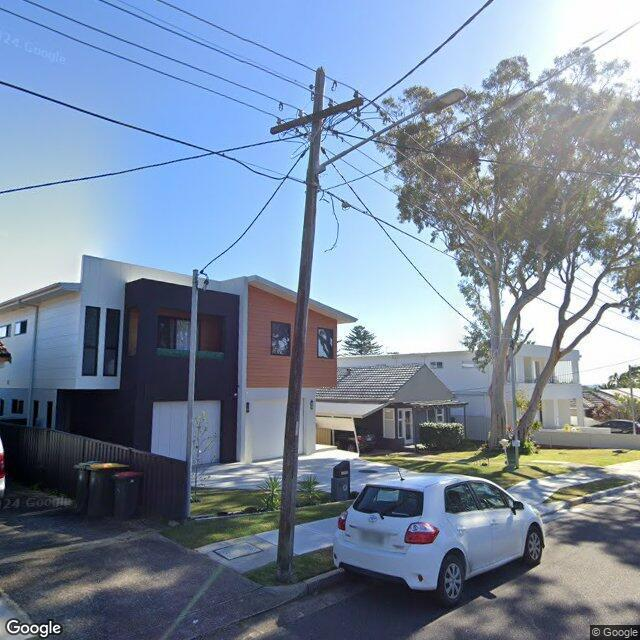crossarm: (271, 97, 365, 135)
steel-pole: (184, 269, 199, 517), (514, 336, 518, 468)
streetlight: (309, 88, 466, 176)
timber-pole: (275, 67, 327, 572)
